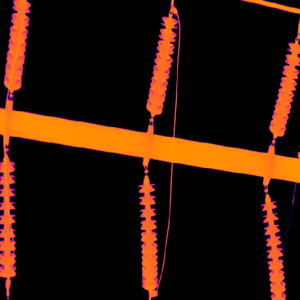insulator: (144, 15, 179, 116), (267, 41, 300, 137), (258, 192, 286, 300), (0, 0, 30, 92), (136, 171, 158, 291), (0, 154, 17, 280)
